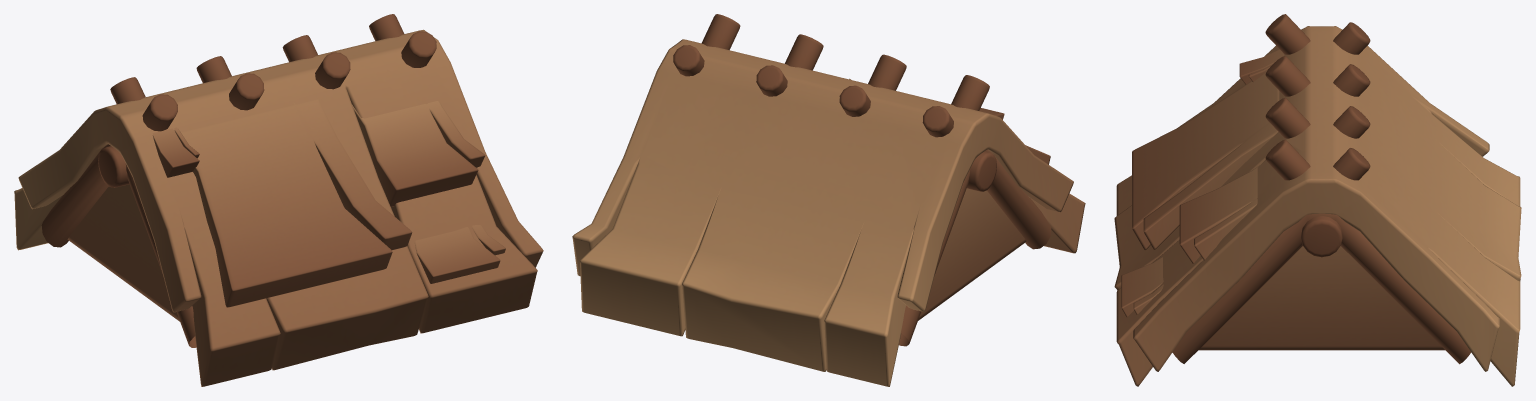
Rendered from SM_Clay_Roof_06.fbx.
The picture shows the model from 3 angles, left to right: view 1: azimuth 30°, elevation 25°; view 2: azimuth 150°, elevation 25°; view 3: azimuth 270°, elevation 25°; orthographic projection. The views are drawn at different scales.
Parts seen in each view (by area): view 1: SM_Clay_Roof_06; view 2: SM_Clay_Roof_06; view 3: SM_Clay_Roof_06.
Boxes of the visible parts, x1,y1,x2,y2 form: SM_Clay_Roof_06: (14, 14, 543, 386); SM_Clay_Roof_06: (572, 14, 1085, 386); SM_Clay_Roof_06: (1114, 14, 1521, 386).
Size of the model in its own units: 1.01 by 0.6502 by 1.03.
Materials: 1 (1 with a texture image).
